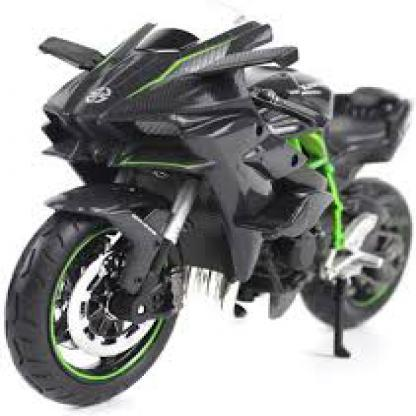Motorcycle: (10, 11, 410, 403)
